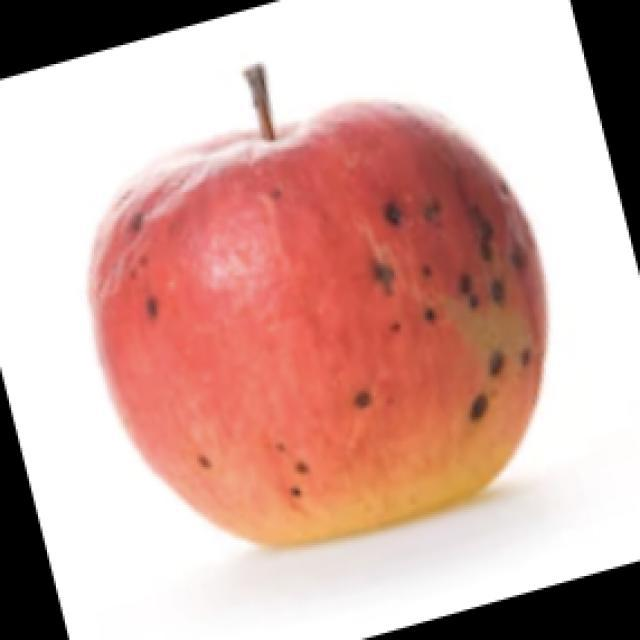Rotten: (83, 98, 550, 545)
